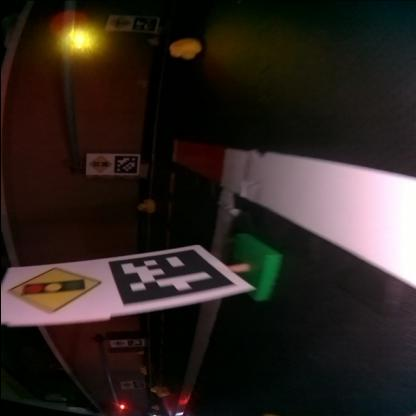Duckie: (167, 39, 201, 60)
Intersection sign: (107, 16, 128, 30)
QR code: (111, 249, 237, 305), (111, 156, 136, 174), (129, 18, 156, 32)
Signal sign: (6, 268, 102, 314), (86, 158, 110, 173)
Traffic light: (60, 30, 90, 48)
